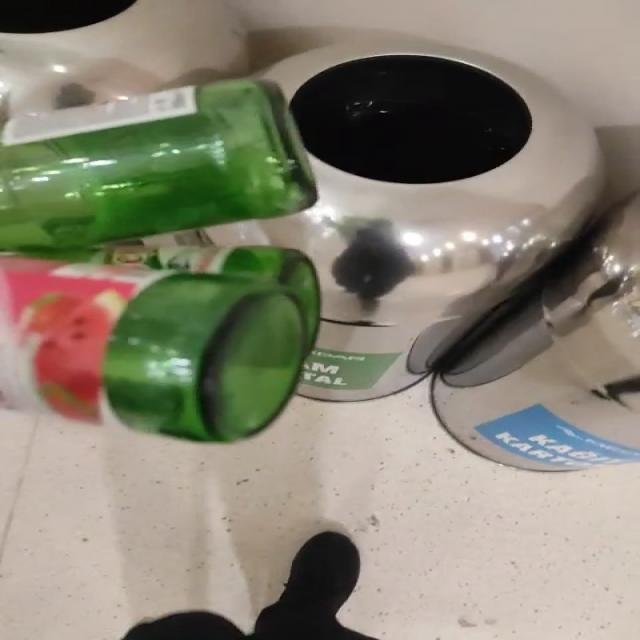bin: (191, 34, 607, 401), (1, 0, 247, 120)
glass: (0, 79, 320, 442)
